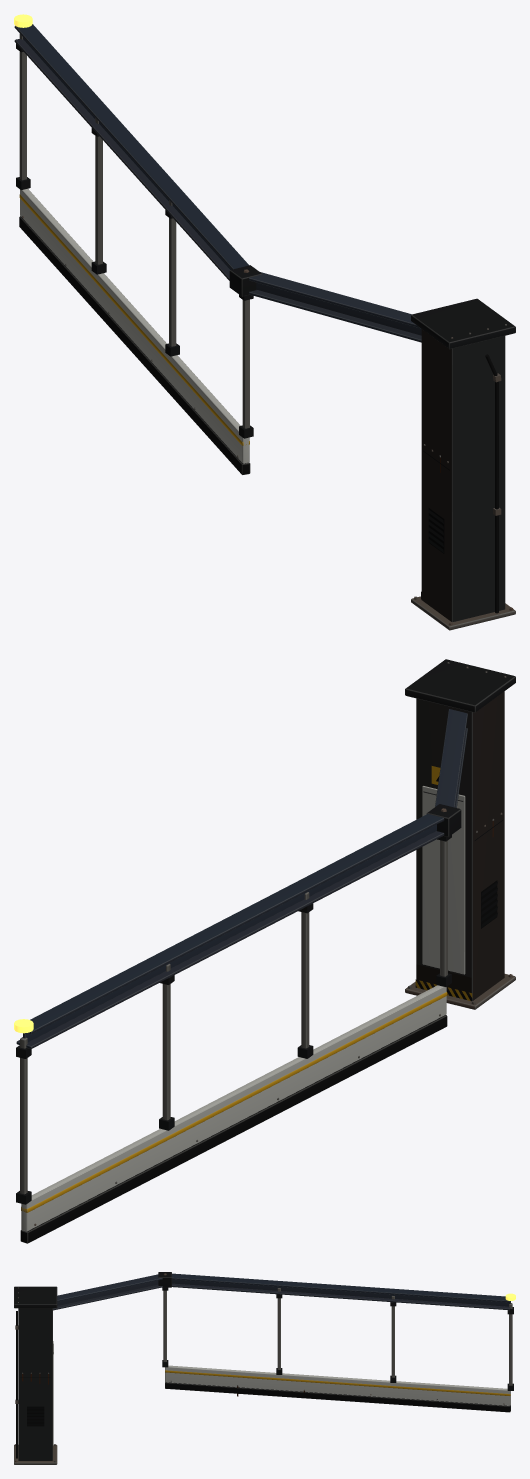
File: sweep_arm.glb
The picture shows the model from 3 angles, top to bottom: view 1: azimuth 30°, elevation 25°; view 2: azimuth 150°, elevation 25°; view 3: azimuth 270°, elevation 25°; orthographic projection. The views are drawn at different scales.
Visible parts, largest first — view 1: Frame; view 2: Frame; view 3: Frame.
Boxes of the visible parts, <box> form: Frame: <box>14,14,515,630</box>; Frame: <box>14,659,515,1243</box>; Frame: <box>14,1272,515,1464</box>.
Bounding box in the file's own units: 2.16 × 4.11 × 11.62.
